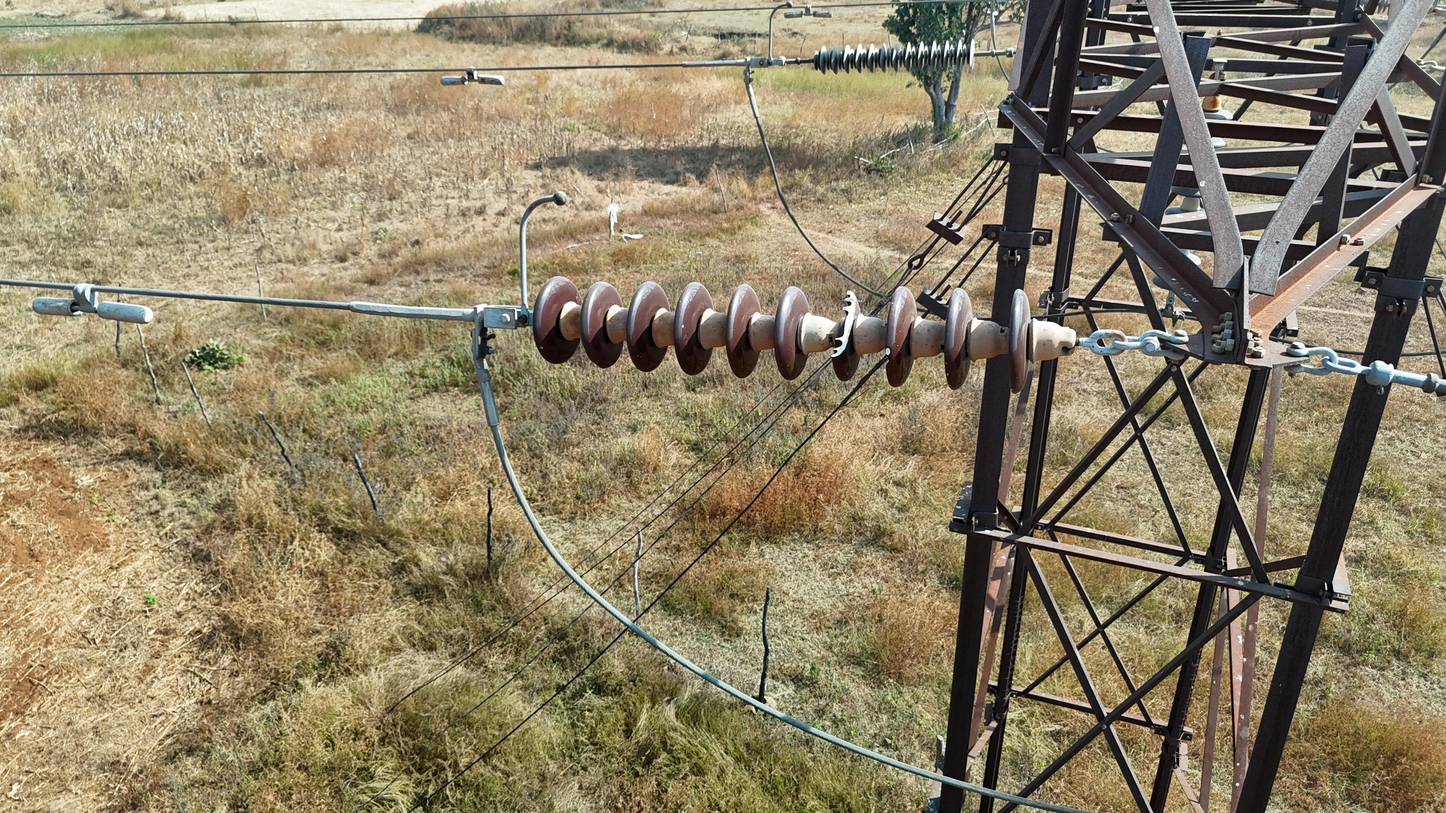broken_insulator: (883, 286, 917, 389), (829, 286, 861, 384)
